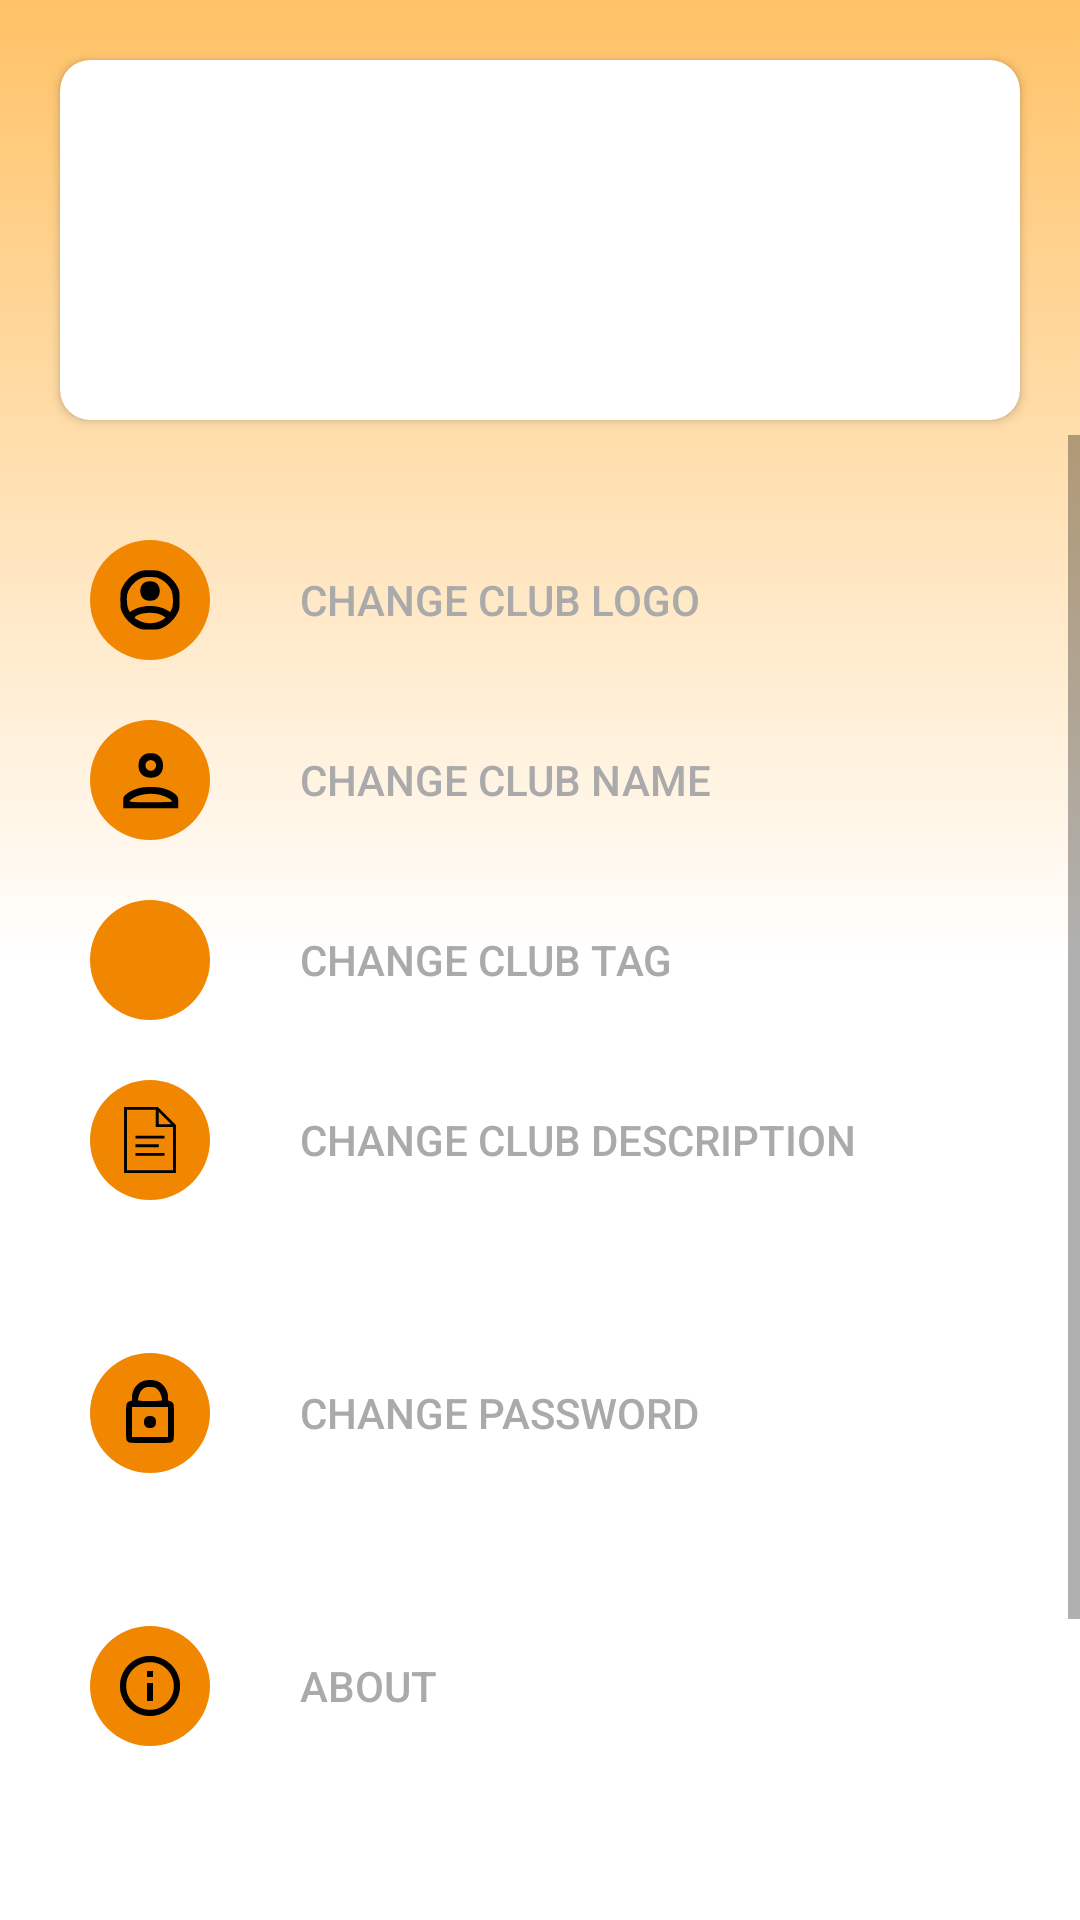

Point at icon controls on the screen. Image size 1080*1920, points as point (x, y).
lock: point (150, 1413)
profile photo: point (150, 600)
username: point (150, 780)
